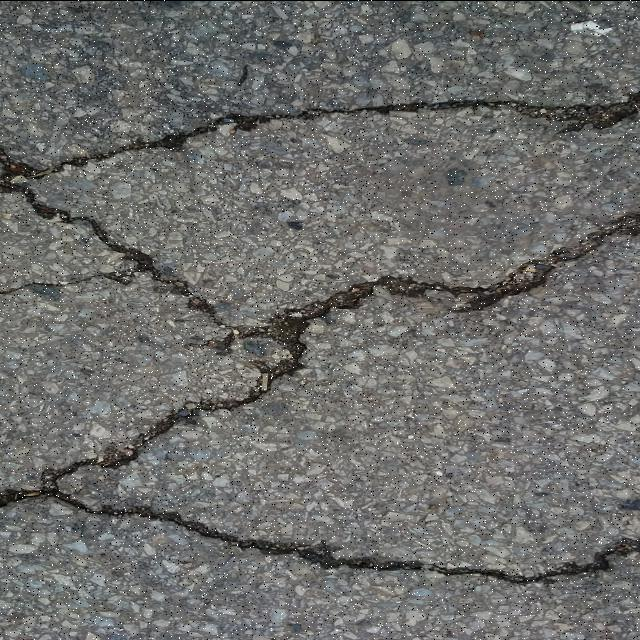Crack: (0, 93, 640, 584)
